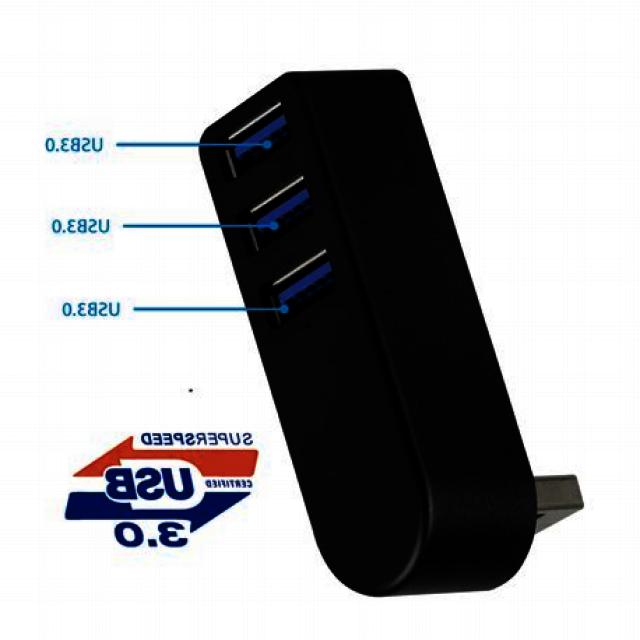usb port: (266, 234, 336, 326), (248, 166, 312, 248), (224, 103, 285, 168)
